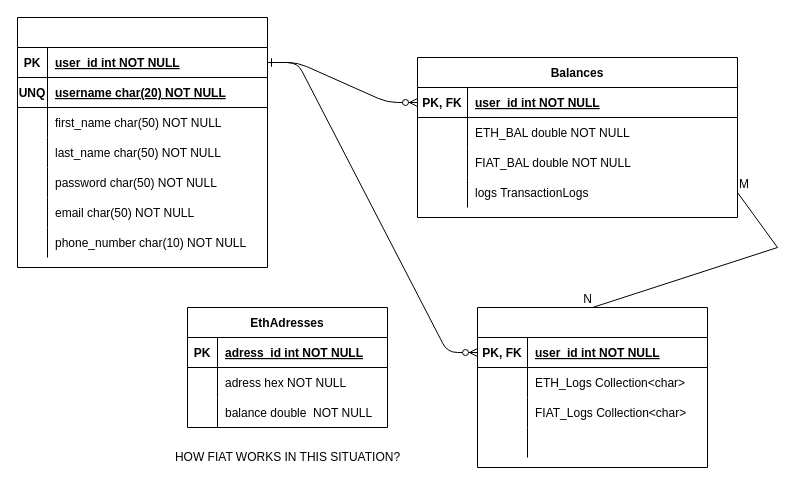
This 796x485 diagram has some shape labels left out. The box of each missing label's shape, as (x1, y1, x2, y2) in pixels:
TransactionLogs: (476, 306, 708, 468)
Users: (16, 16, 268, 268)
